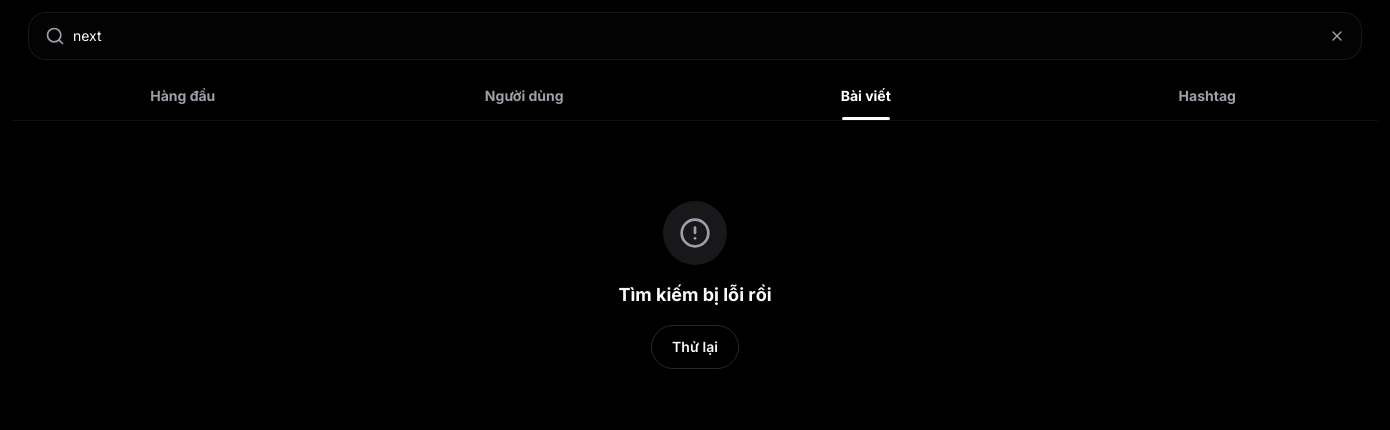
Test: SearchContainer › retries after a failure
The width and height of the screenshot is (1390, 430).
Expected: the heading "Tìm kiếm bị lỗi rồi" is shown, [618,281,772,309]
Click the button "Thử lại".
click(695, 347)  # box [651,325,739,369]
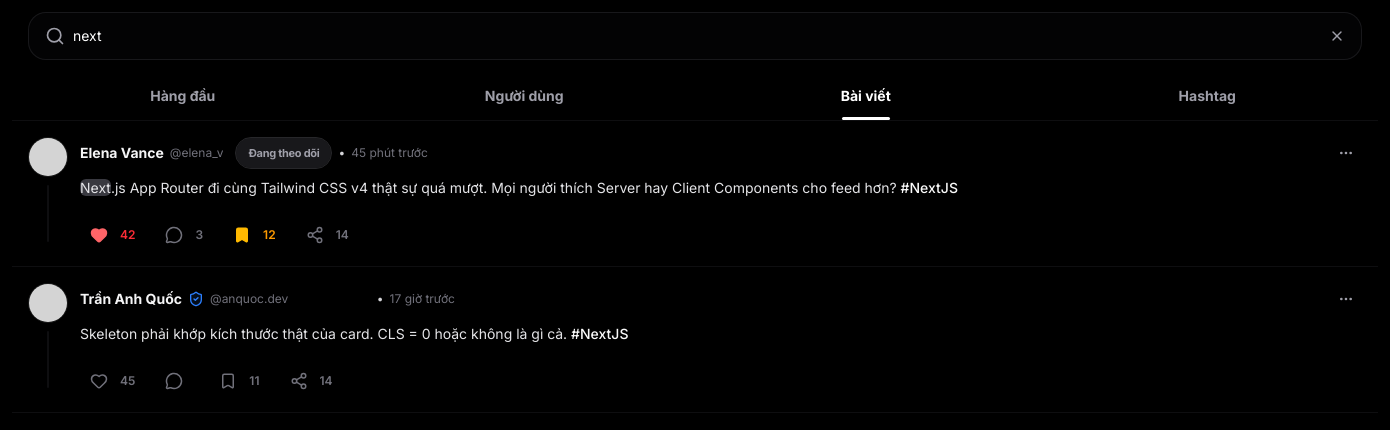
Expected: the element that starts with "Elena Vance" is shown, [12,121,1378,267]
